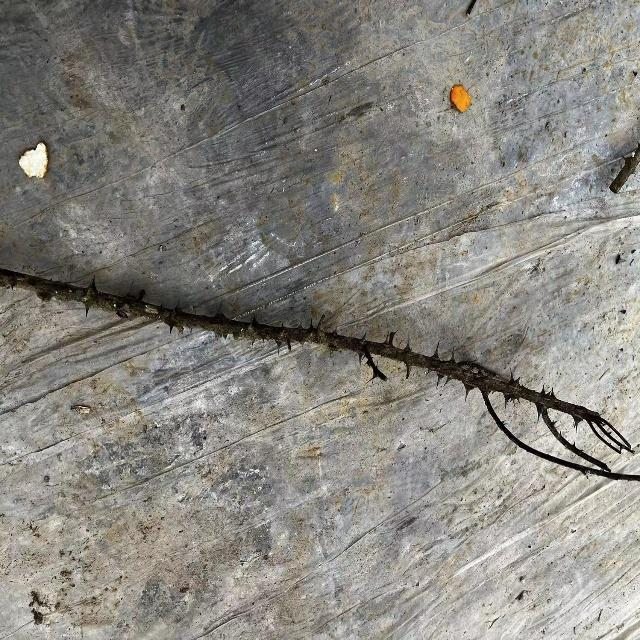branch: (0, 272, 626, 447)
